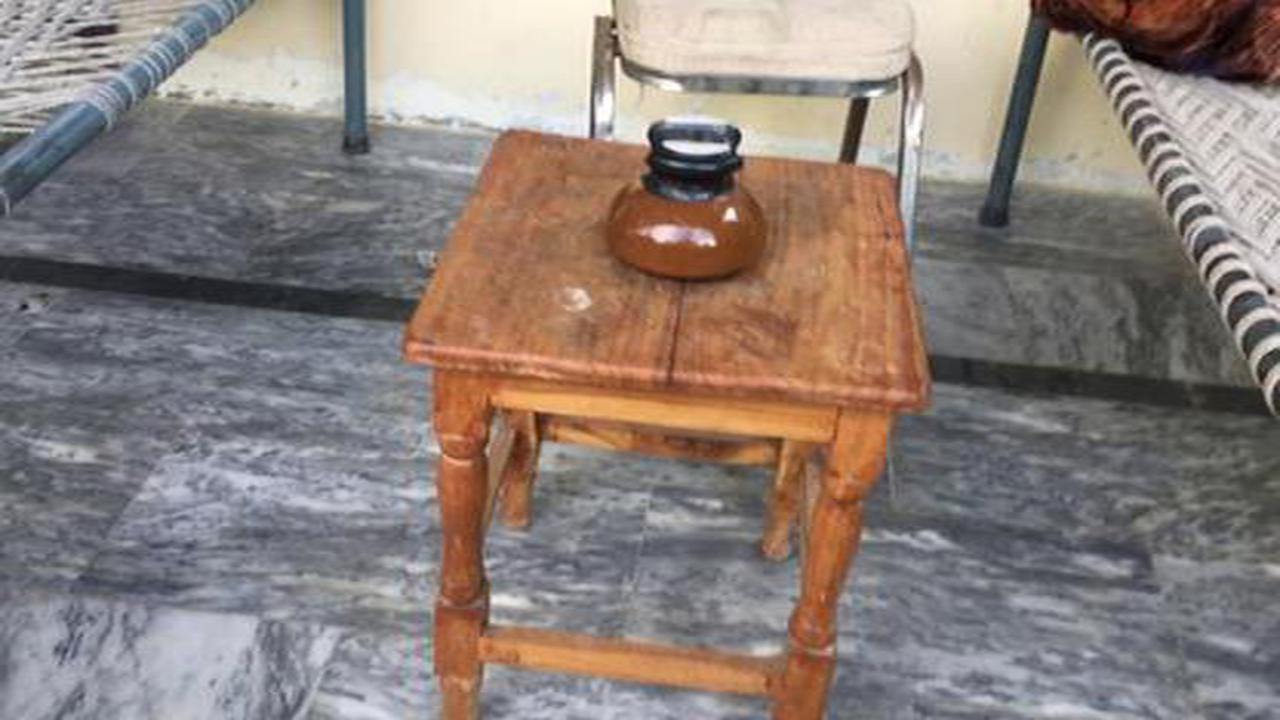insulator_pin: (582, 94, 801, 298)
